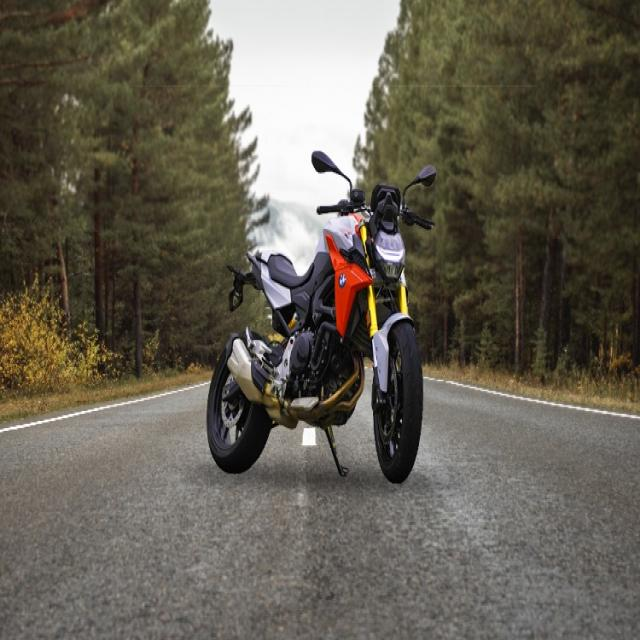Bike: (206, 152, 436, 482)
